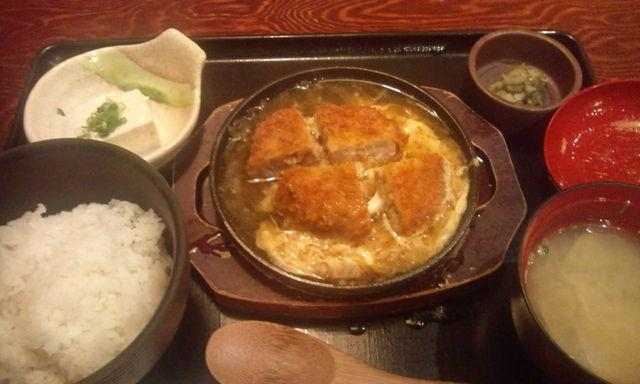plate: (0, 138, 188, 383)
rice: (0, 200, 171, 383)
